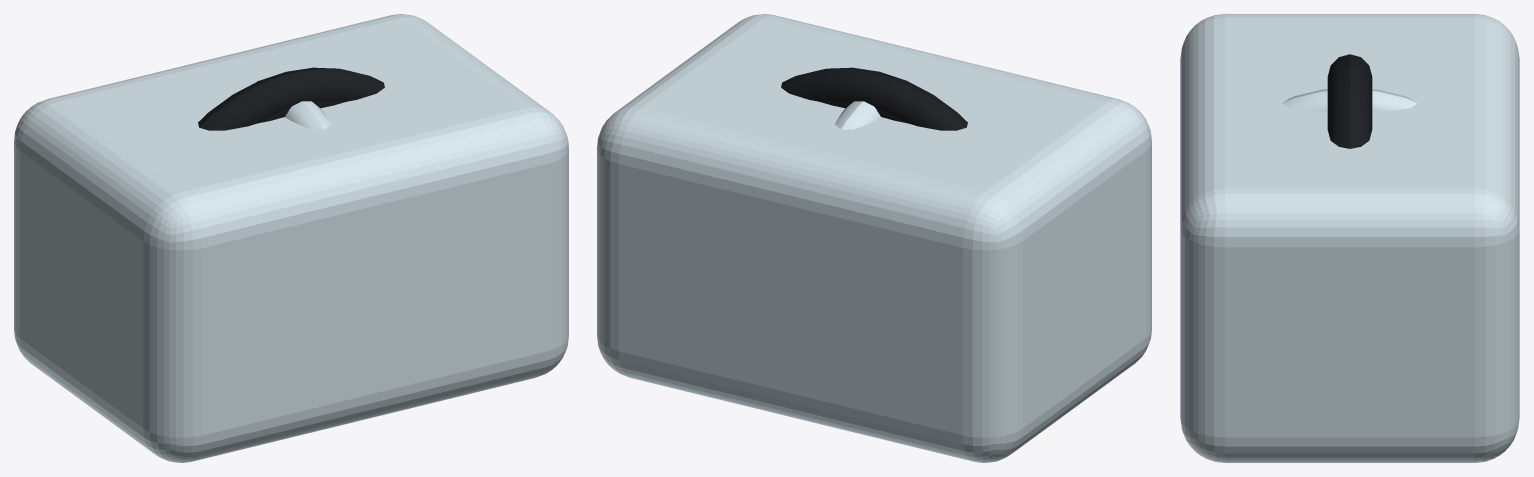
The model's file is transmission_hydraulics_10.glb.
3 renders of one model, left to right at view 1: azimuth 30°, elevation 25°; view 2: azimuth 150°, elevation 25°; view 3: azimuth 270°, elevation 25°, orthographic.
Visible parts, largest first — view 1: asset_mesh__transmission_hydraulics_0476__reference_body, asset_mesh__transmission_hydraulics_0467__service_element, asset_mesh__transmission_hydraulics_0483__functional_ring; view 2: asset_mesh__transmission_hydraulics_0476__reference_body, asset_mesh__transmission_hydraulics_0467__service_element, asset_mesh__transmission_hydraulics_0483__functional_ring; view 3: asset_mesh__transmission_hydraulics_0476__reference_body, asset_mesh__transmission_hydraulics_0467__service_element, asset_mesh__transmission_hydraulics_0483__functional_ring.
Boxes of the visible parts, x1=… form: asset_mesh__transmission_hydraulics_0476__reference_body: x1=14, y1=14, x2=568, y2=462; asset_mesh__transmission_hydraulics_0467__service_element: x1=198, y1=67, x2=384, y2=130; asset_mesh__transmission_hydraulics_0483__functional_ring: x1=257, y1=80, x2=330, y2=129; asset_mesh__transmission_hydraulics_0476__reference_body: x1=597, y1=14, x2=1151, y2=462; asset_mesh__transmission_hydraulics_0467__service_element: x1=781, y1=67, x2=967, y2=130; asset_mesh__transmission_hydraulics_0483__functional_ring: x1=835, y1=80, x2=908, y2=129; asset_mesh__transmission_hydraulics_0476__reference_body: x1=1180, y1=14, x2=1519, y2=462; asset_mesh__transmission_hydraulics_0467__service_element: x1=1327, y1=54, x2=1372, y2=148; asset_mesh__transmission_hydraulics_0483__functional_ring: x1=1282, y1=89, x2=1417, y2=111.
Bounding box in the file's own units: 1.22 × 0.9164 × 0.84.
